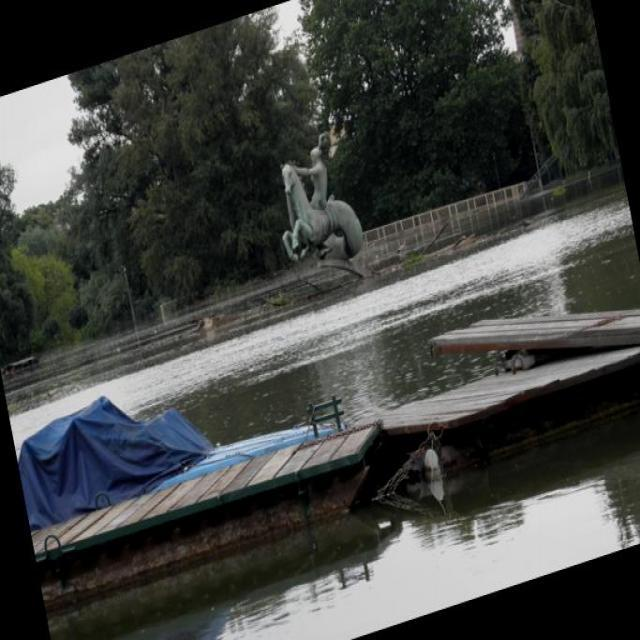flood: (2, 178, 639, 540), (44, 364, 639, 639)
